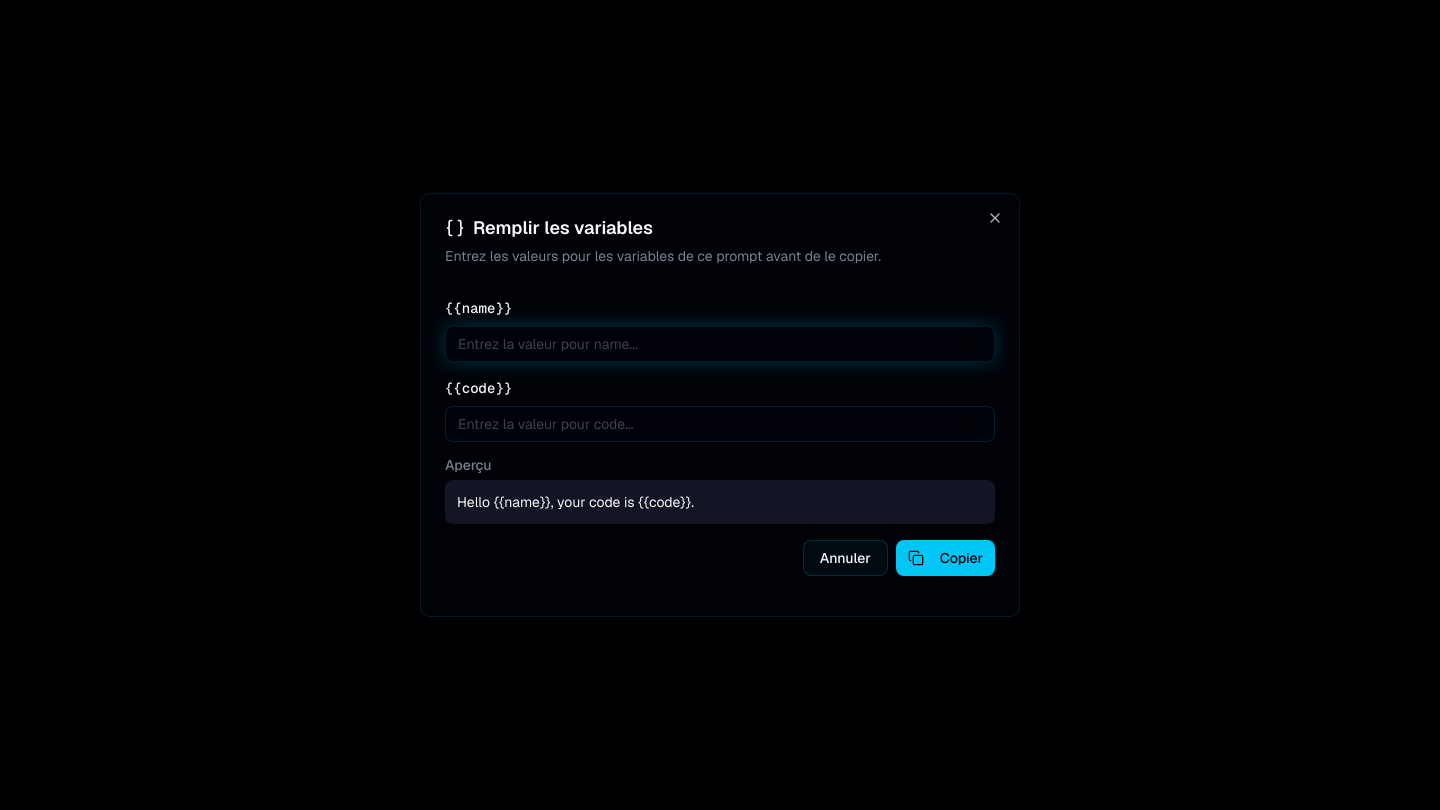
it: VariableDialog › should update preview with all values
The width and height of the screenshot is (1440, 810).
Type "Bob" into the field with placeholder "Entrez la valeur pour name...".
click(720, 344); type("Bob")  # box [445,326,995,362]
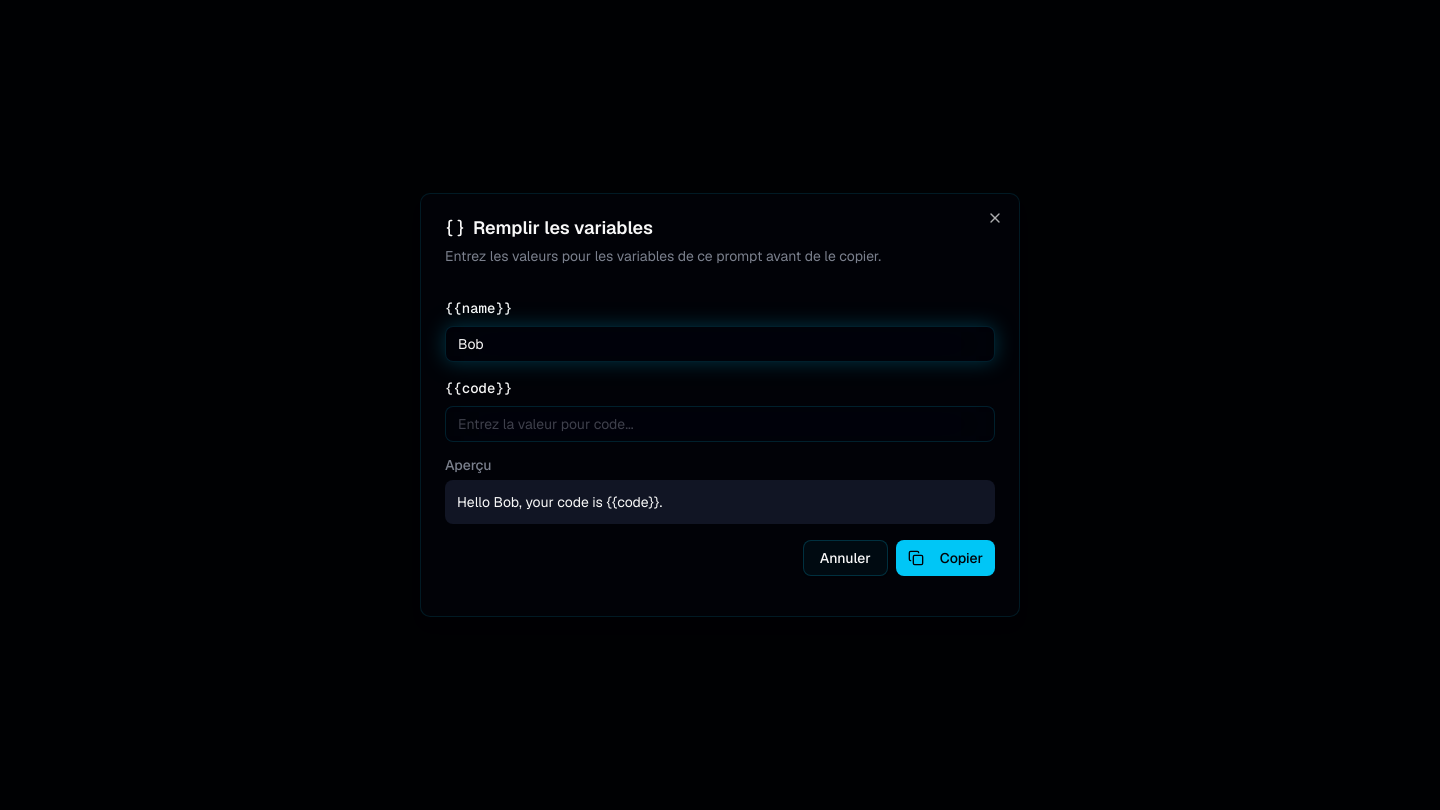
Type "ABC123" into the field with placeholder "Entrez la valeur pour code...".
click(720, 424); type("ABC123")  # box [445,406,995,442]
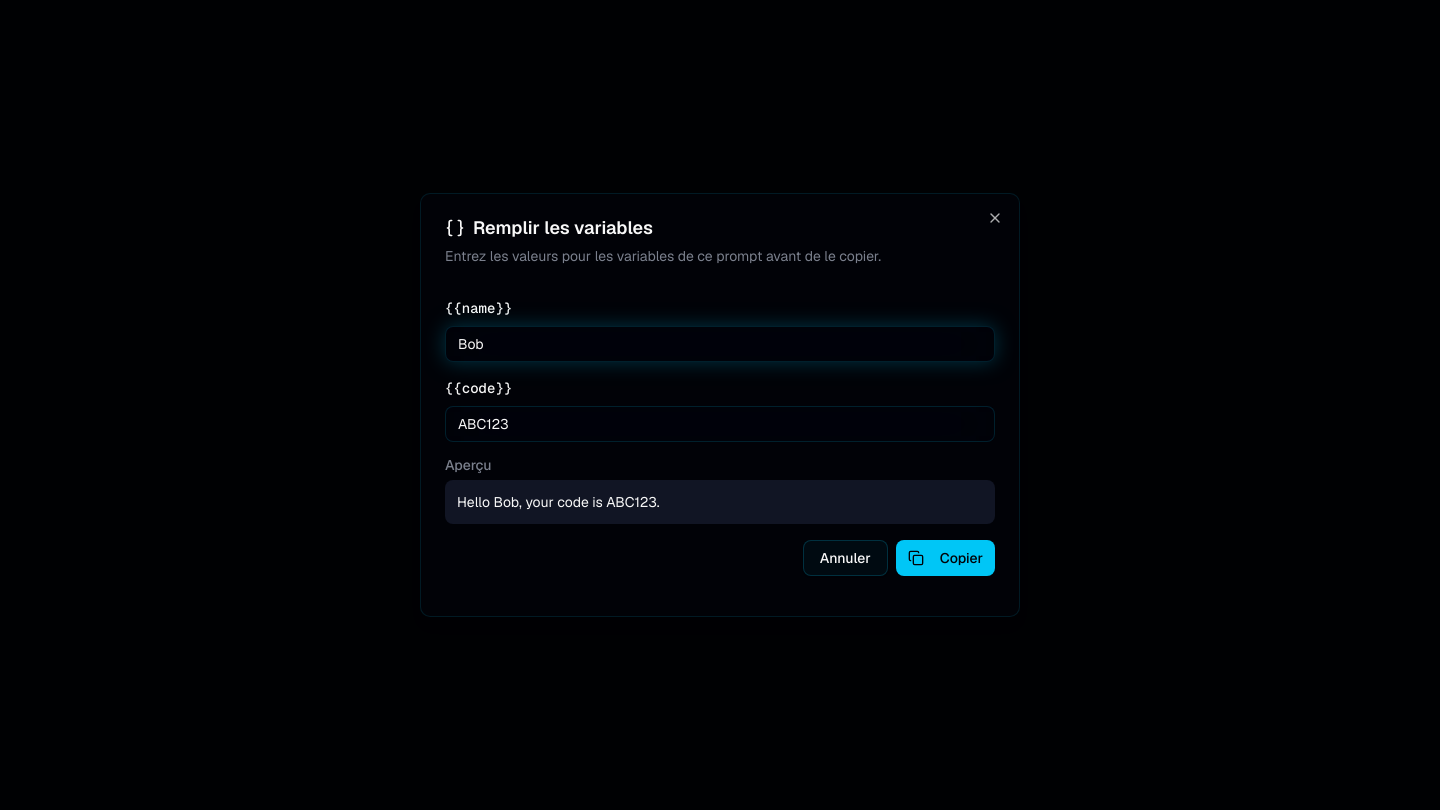
Result: the text "Hello Bob, your code is ABC123." is shown at [445,480,995,524]
